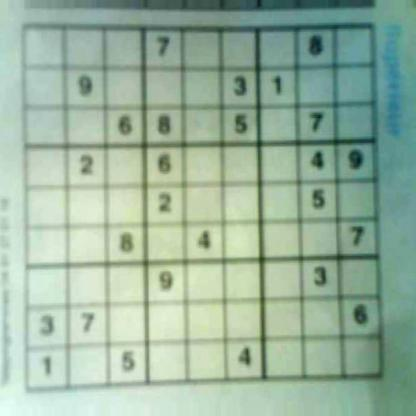sudoku: (18, 19, 387, 398)
